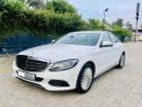car: (11, 29, 127, 96)
